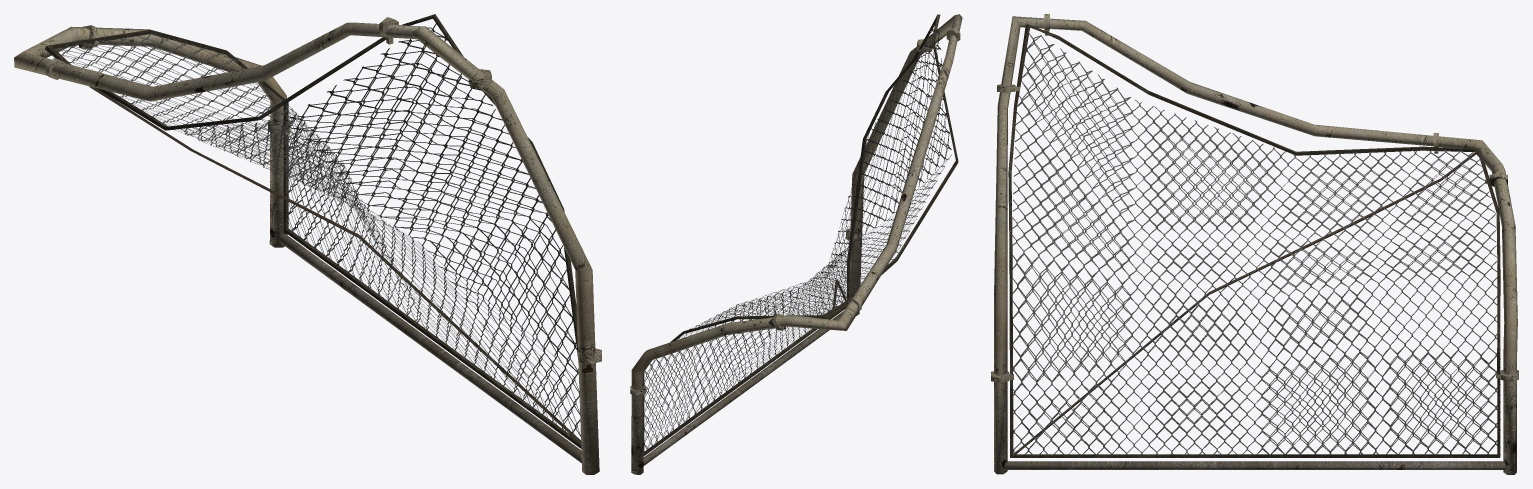
Rendered from interior_fence004b.glb.
The picture shows the model from 3 angles, left to right: view 1: azimuth 30°, elevation 25°; view 2: azimuth 150°, elevation 25°; view 3: azimuth 270°, elevation 25°; orthographic projection. The views are drawn at different scales.
Parts seen in each view (by area): view 1: 1_fence_alpha, 0_prison_yard001; view 2: 0_prison_yard001, 1_fence_alpha; view 3: 1_fence_alpha, 0_prison_yard001.
Part boxes in pixels (x1,y1,x2,y2): 1_fence_alpha: (53,23,580,440); 0_prison_yard001: (14,14,601,474); 0_prison_yard001: (630,14,962,474); 1_fence_alpha: (644,28,951,450); 1_fence_alpha: (1012,33,1500,454); 0_prison_yard001: (991,14,1518,474).
Bounding box in the file's own units: 1.73 × 2.69 × 3.28.
Materials: 2 (2 with a texture image).
